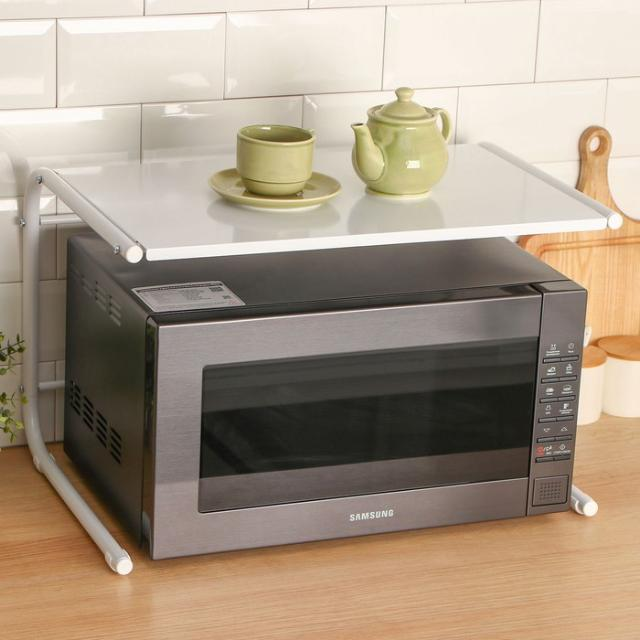Microwave: (55, 242, 590, 566)
